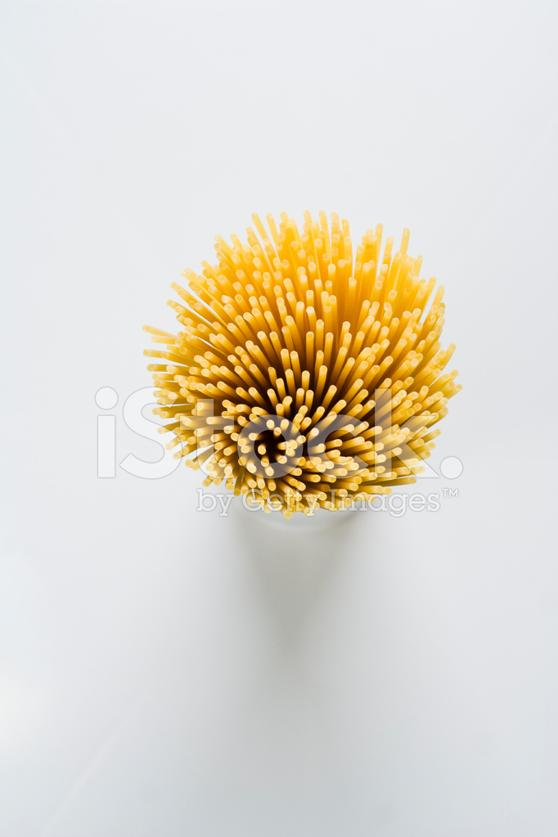spaghetti: (137, 197, 449, 513)
